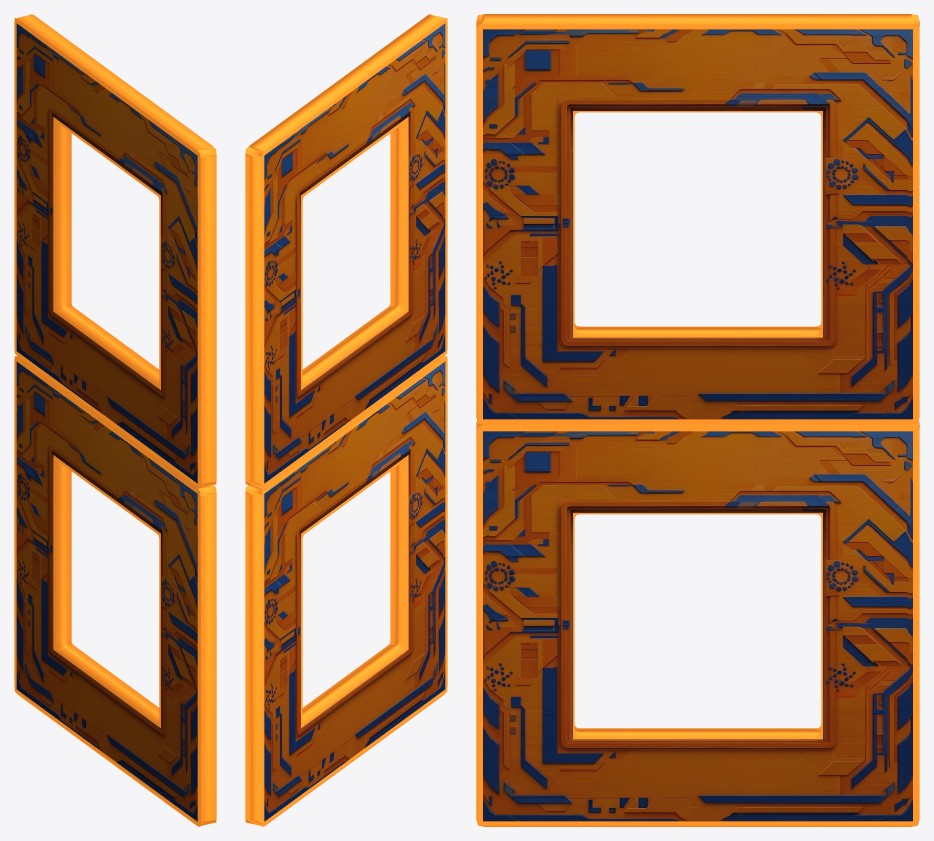
Rendered from orange_double_gate.dae.
The picture shows the model from 3 angles, left to right: view 1: azimuth 30°, elevation 25°; view 2: azimuth 150°, elevation 25°; view 3: azimuth 270°, elevation 25°; orthographic projection. The views are drawn at different scales.
Parts seen in each view (by area): view 1: Cube; view 2: Cube; view 3: Cube.
Boxes of the visible parts, <box> form: Cube: <box>14,14,216,826</box>; Cube: <box>245,14,447,826</box>; Cube: <box>476,14,919,826</box>.
Bounding box in the file's own units: 0.14 × 2.7 × 5.4.
